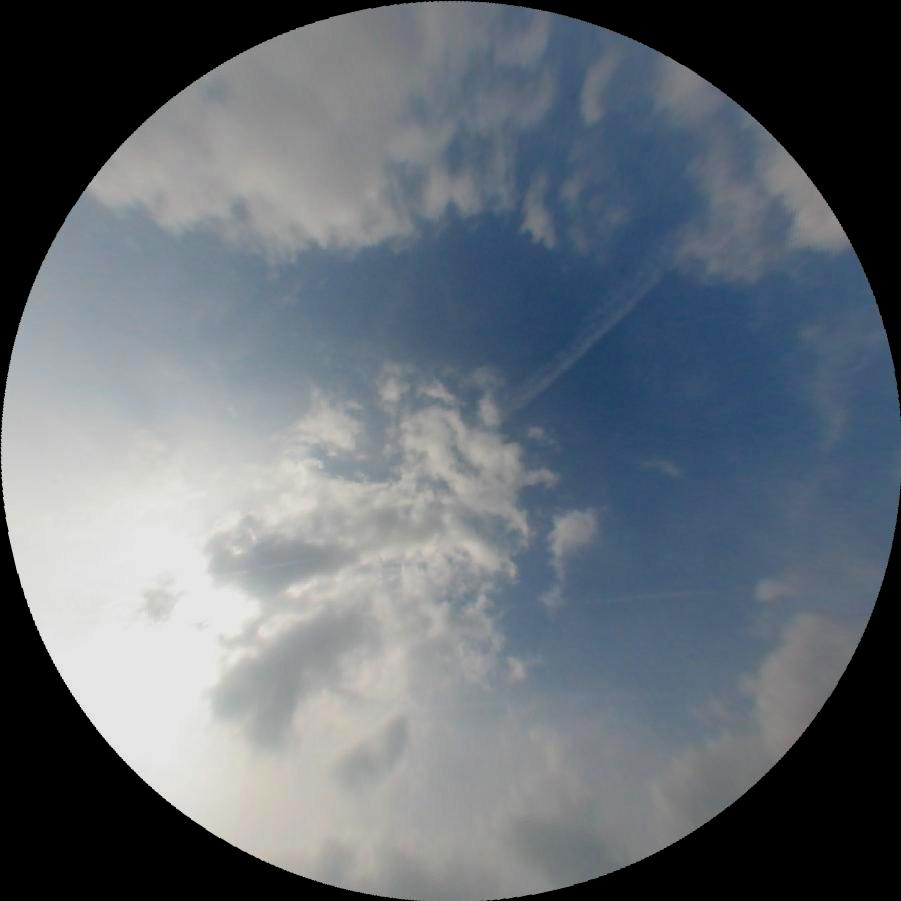contrail old: (499, 583, 751, 614)
contrail veryold: (496, 249, 669, 422)
parasite: (211, 553, 318, 580)
sun: (0, 434, 307, 793)
